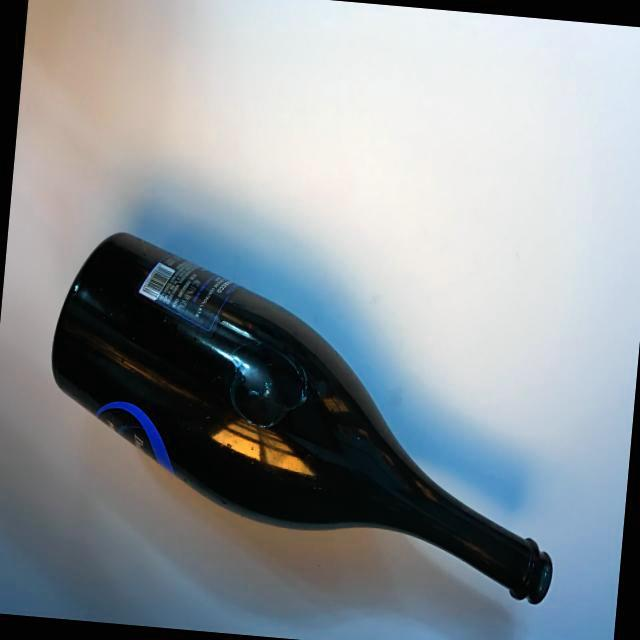glass: (30, 220, 592, 608)
